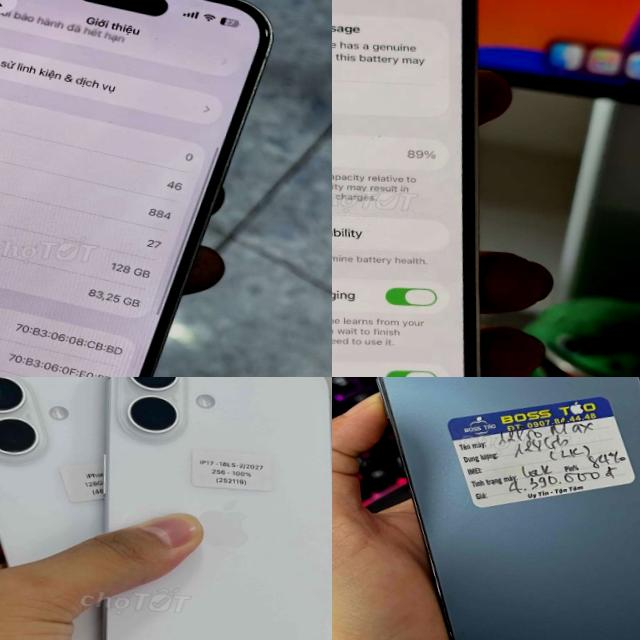gen_12_13: (332, 377, 640, 640), (332, 0, 513, 377)
gen_14: (0, 0, 281, 377)
gen_17: (84, 377, 332, 640)
